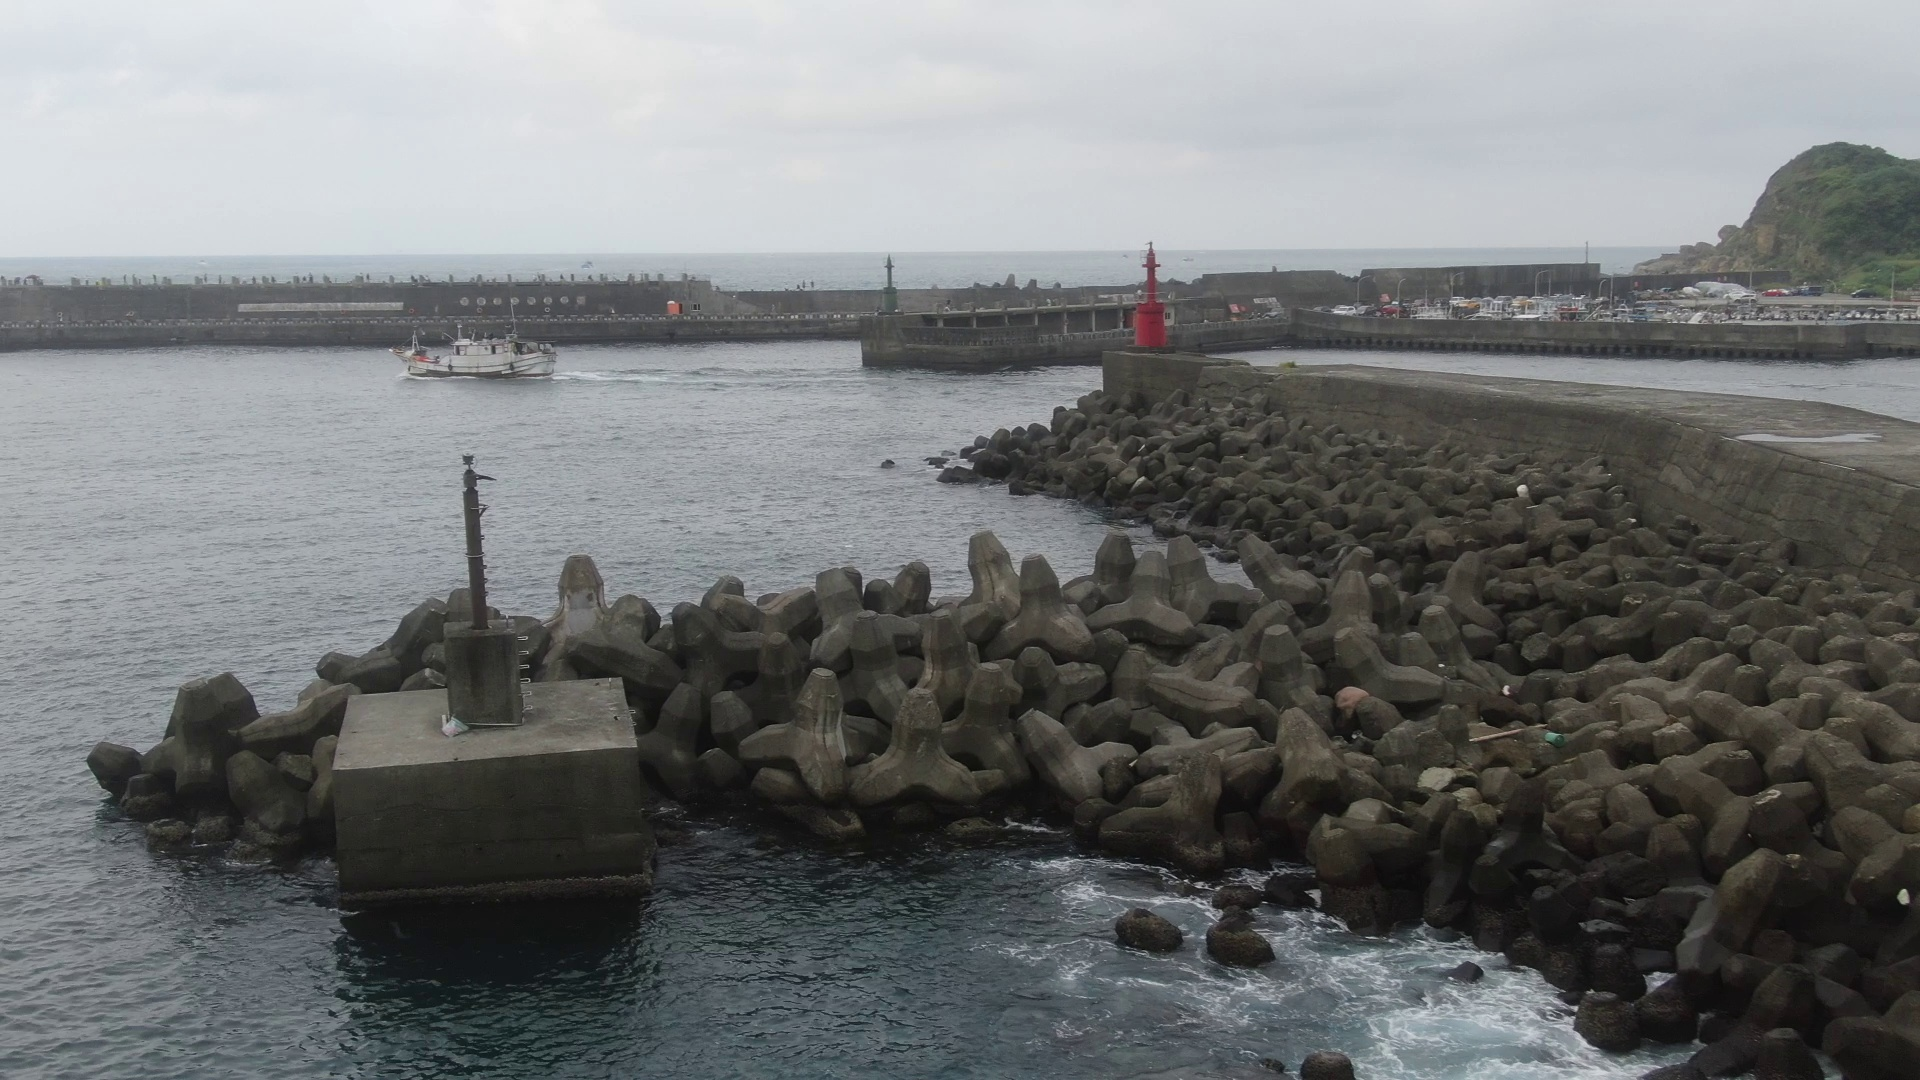garbage: (427, 705, 477, 749)
